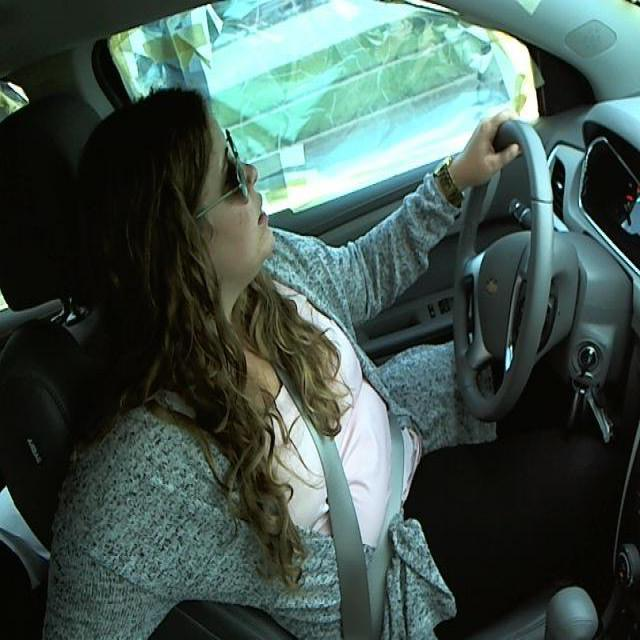seatbelt: (300, 393, 410, 639)
